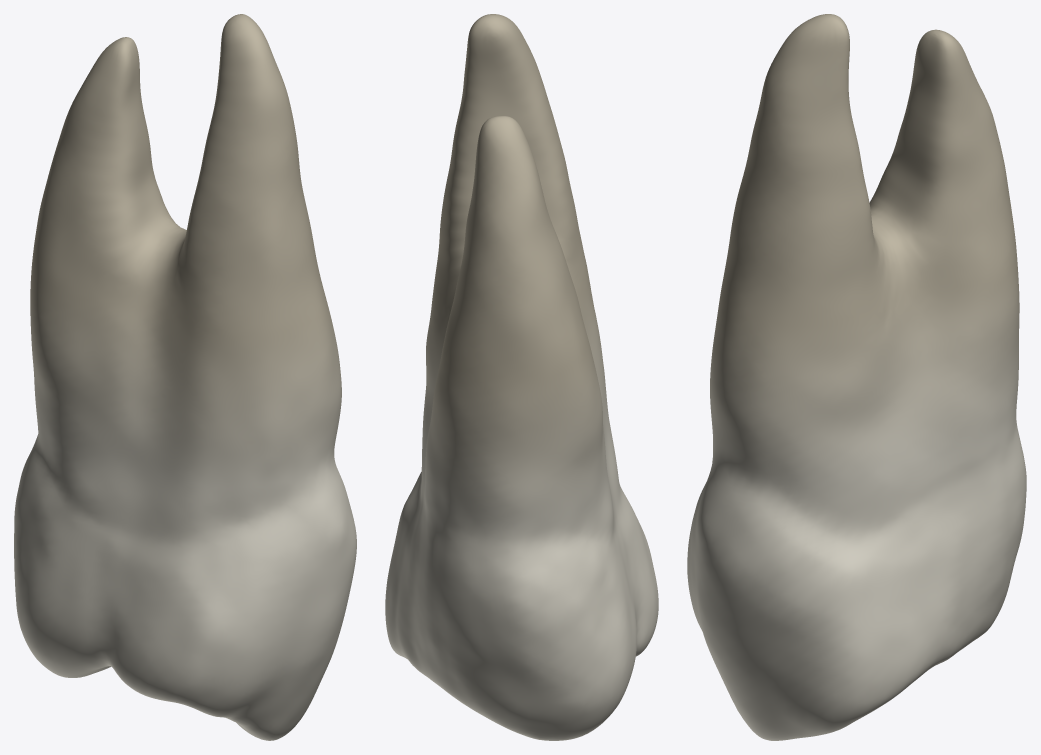
3 renders of one model, left to right at view 1: azimuth 30°, elevation 25°; view 2: azimuth 150°, elevation 25°; view 3: azimuth 270°, elevation 25°, orthographic. The views are drawn at different scales.
Parts seen in each view (by area): view 1: Tooth_24_0; view 2: Tooth_24_0; view 3: Tooth_24_0.
Part boxes in pixels (x1,y1,x2,y2): Tooth_24_0: (14, 14, 356, 740); Tooth_24_0: (385, 14, 658, 740); Tooth_24_0: (687, 14, 1026, 740).
Size of the model in its own units: 0.95 by 2.39 by 1.02.
